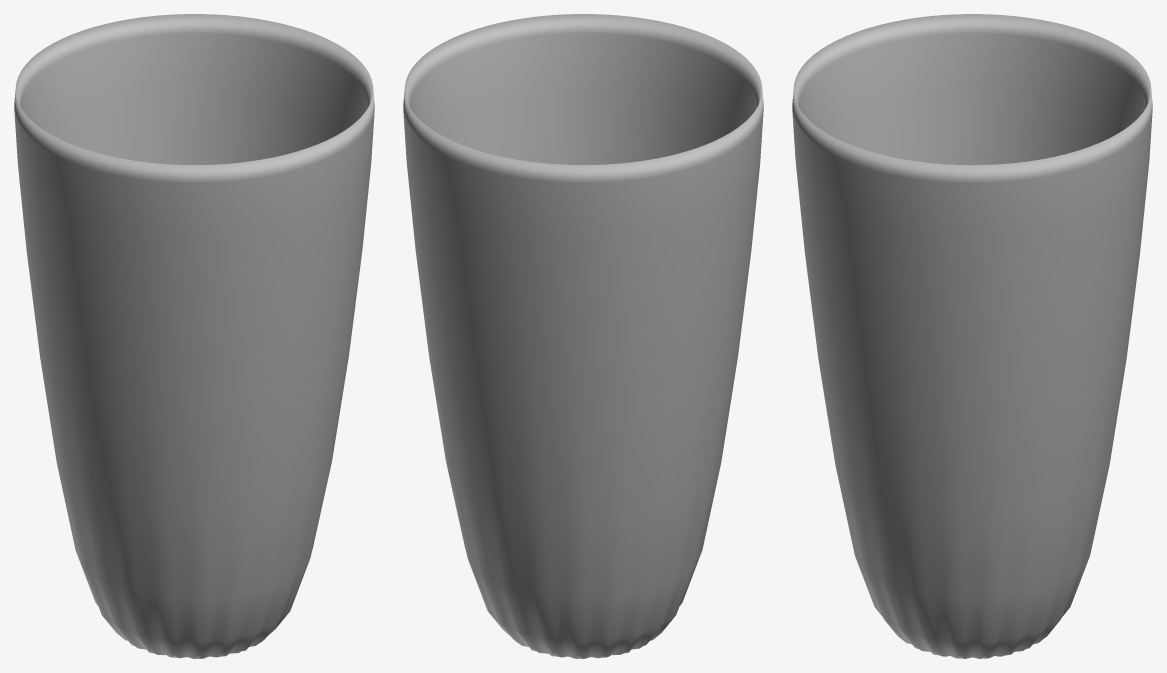
The model's file is Vaso.fbx.
3 renders of one model, left to right at view 1: azimuth 30°, elevation 25°; view 2: azimuth 150°, elevation 25°; view 3: azimuth 270°, elevation 25°, orthographic.
Parts seen in each view (by area): view 1: Vaso; view 2: Vaso; view 3: Vaso.
Boxes of the visible parts, x1,y1,x2,y2 form: Vaso: (14, 14, 374, 658); Vaso: (403, 14, 763, 658); Vaso: (792, 14, 1152, 658).
Size of the model in its own units: 26.06 by 43.53 by 26.06.
Materials: 1 (1 with a texture image).
